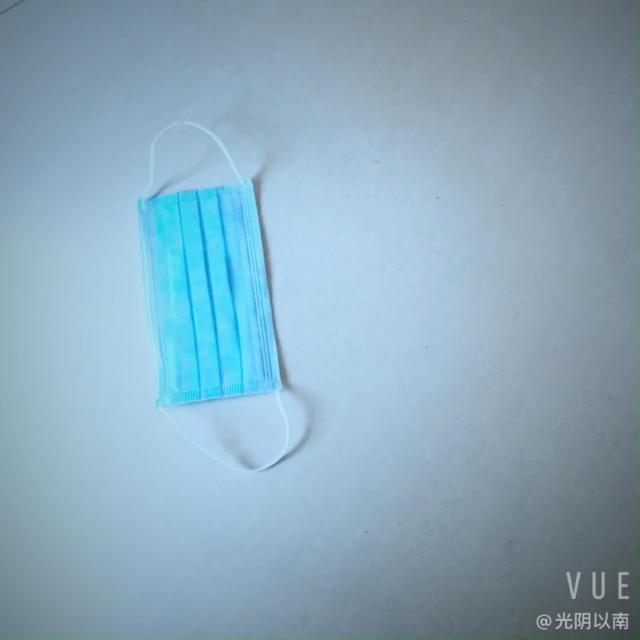face mask: (129, 162, 298, 416)
